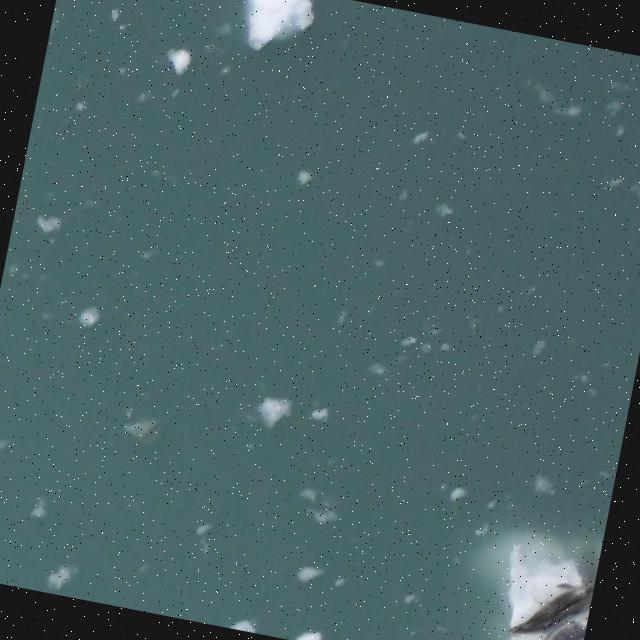seal: (500, 571, 603, 640)
